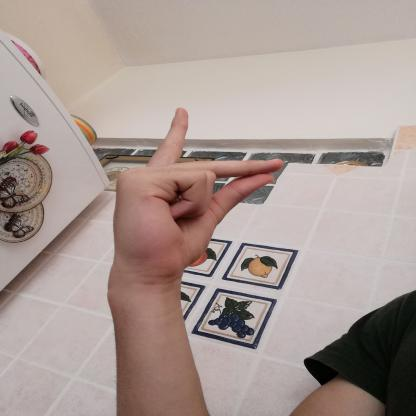TAA: (89, 100, 295, 294)
